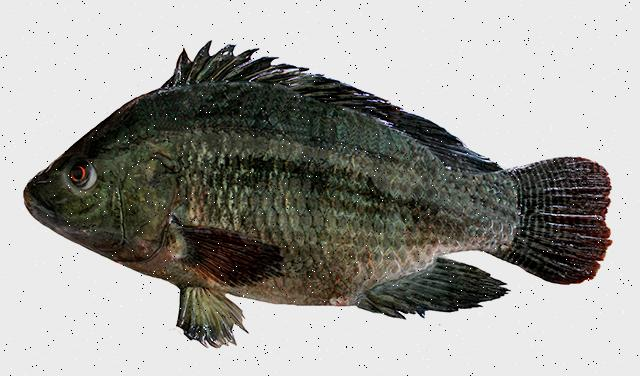Mulut: (10, 164, 58, 228)
Sirip Anal: (362, 254, 518, 326)
Sirip Dada: (166, 208, 290, 296)
Sirip Ekor: (495, 138, 615, 290)
Sirip Perut: (170, 276, 254, 356)
Sirip Punggung: (166, 33, 502, 185)
